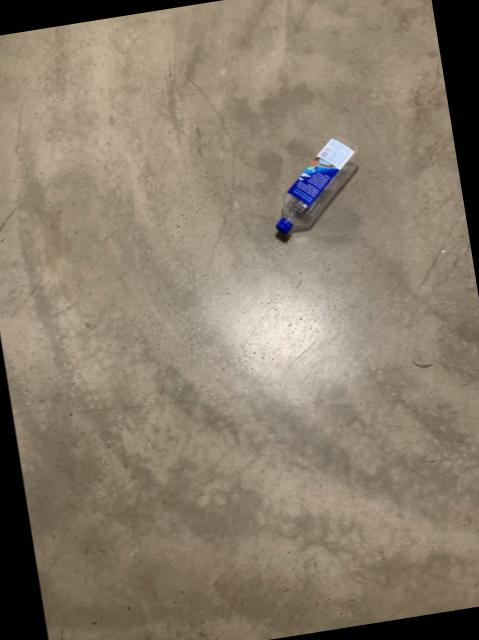plastic: (277, 139, 359, 242)
